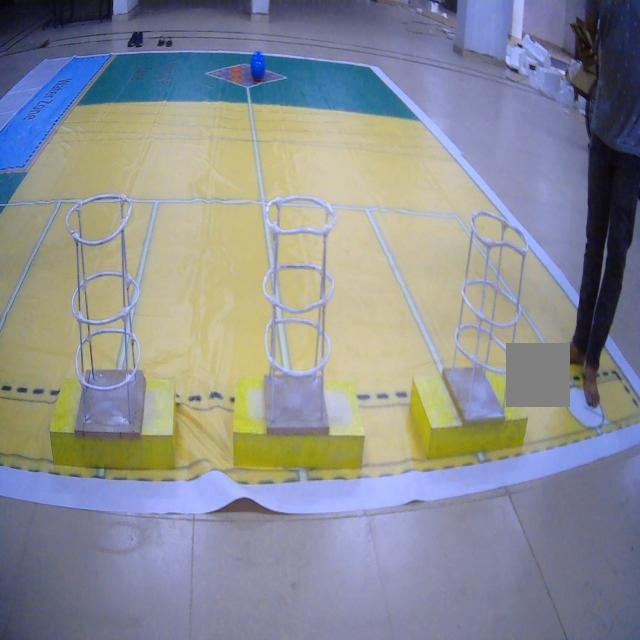silo: (60, 180, 152, 450), (256, 181, 340, 441), (447, 192, 528, 446)
